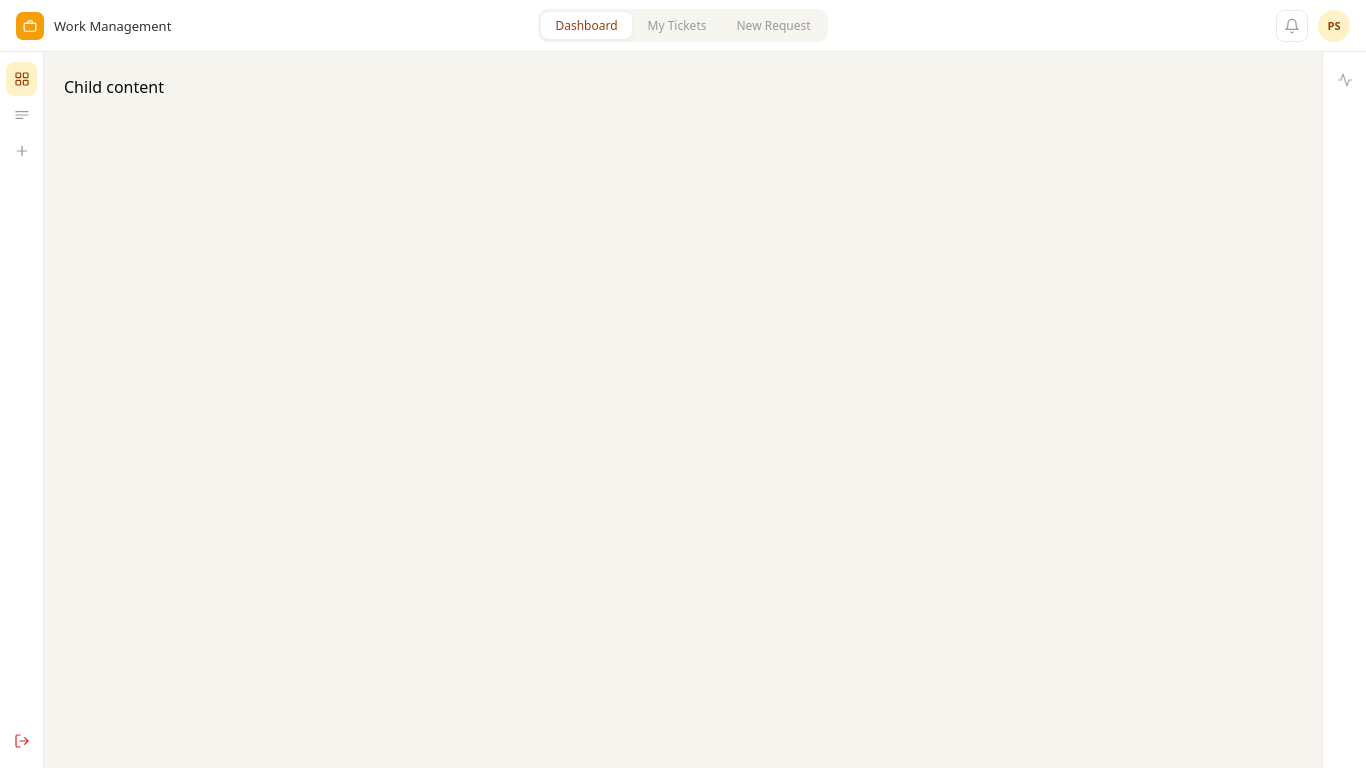
Test case: AppShell › renders hr role label for hr user
Click the button "PS".
click(1334, 26)  # box [1318, 10, 1350, 42]
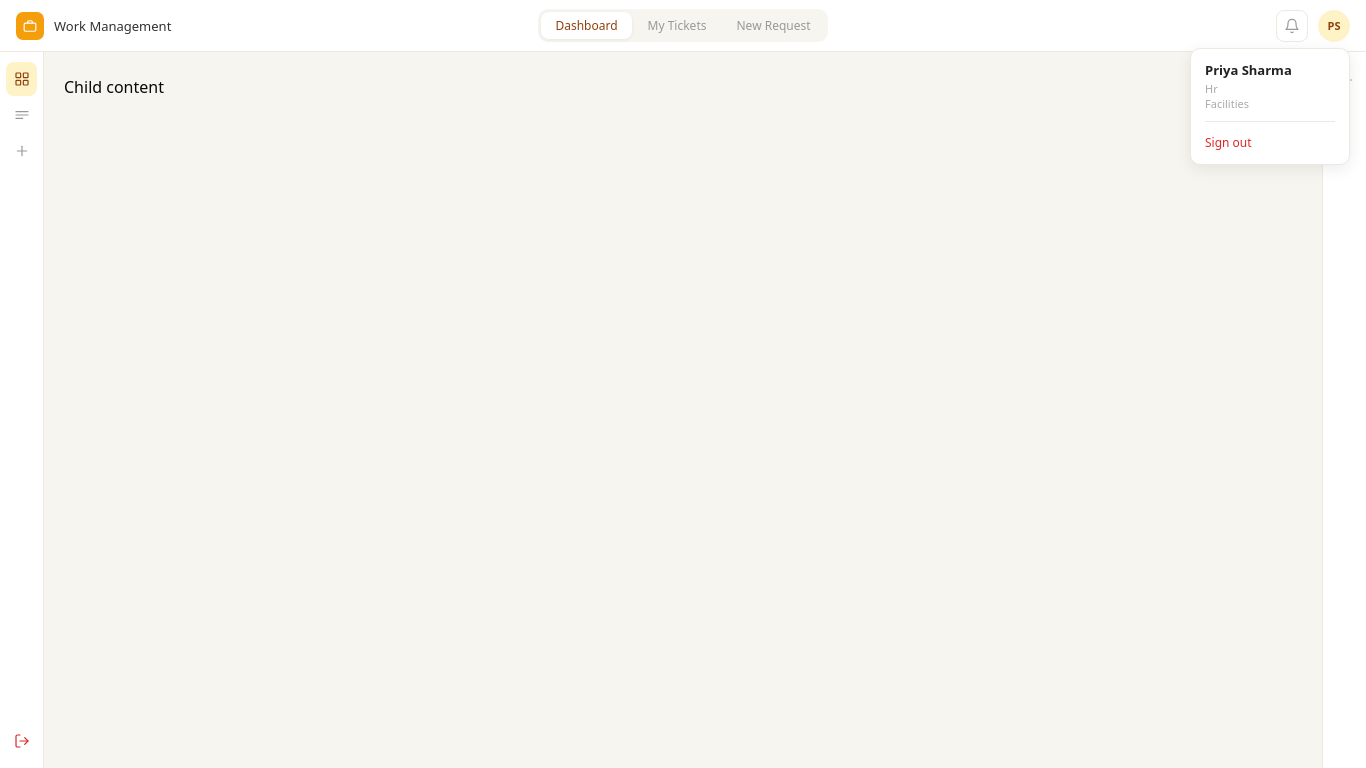
Check: the text "hr" is shown, box [1205, 80, 1218, 96]
